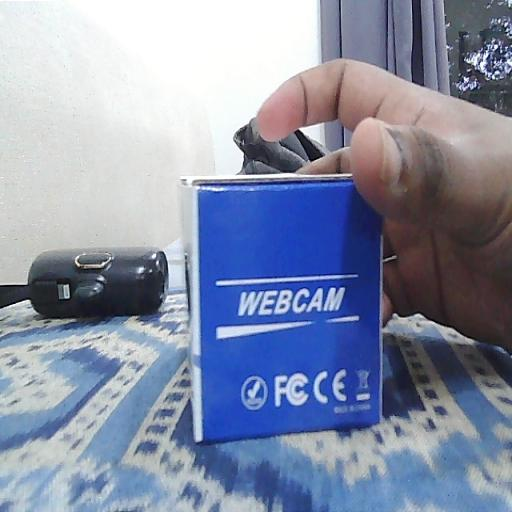webcam_box: (178, 174, 384, 447)
